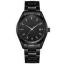watch: (15, 11, 48, 48)
